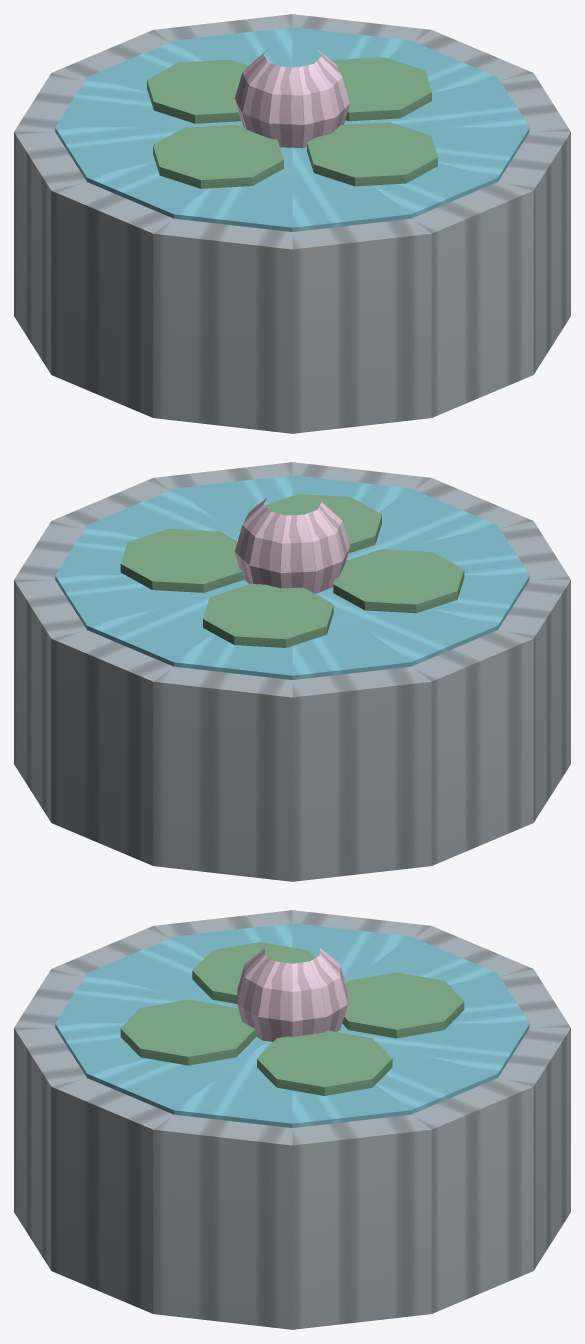
File: lotus_planter.glb
3 renders of one model, top to bottom at view 1: azimuth 30°, elevation 25°; view 2: azimuth 150°, elevation 25°; view 3: azimuth 270°, elevation 25°, orthographic.
Visible parts, largest first — view 1: lotus_planter; view 2: lotus_planter; view 3: lotus_planter.
Boxes of the visible parts, x1=… form: lotus_planter: x1=14, y1=14, x2=570, y2=433; lotus_planter: x1=14, y1=462, x2=570, y2=881; lotus_planter: x1=14, y1=910, x2=570, y2=1329.
Bounding box in the file's own units: 2.3 × 1.22 × 2.3.
Materials: 1 (1 with a texture image).
